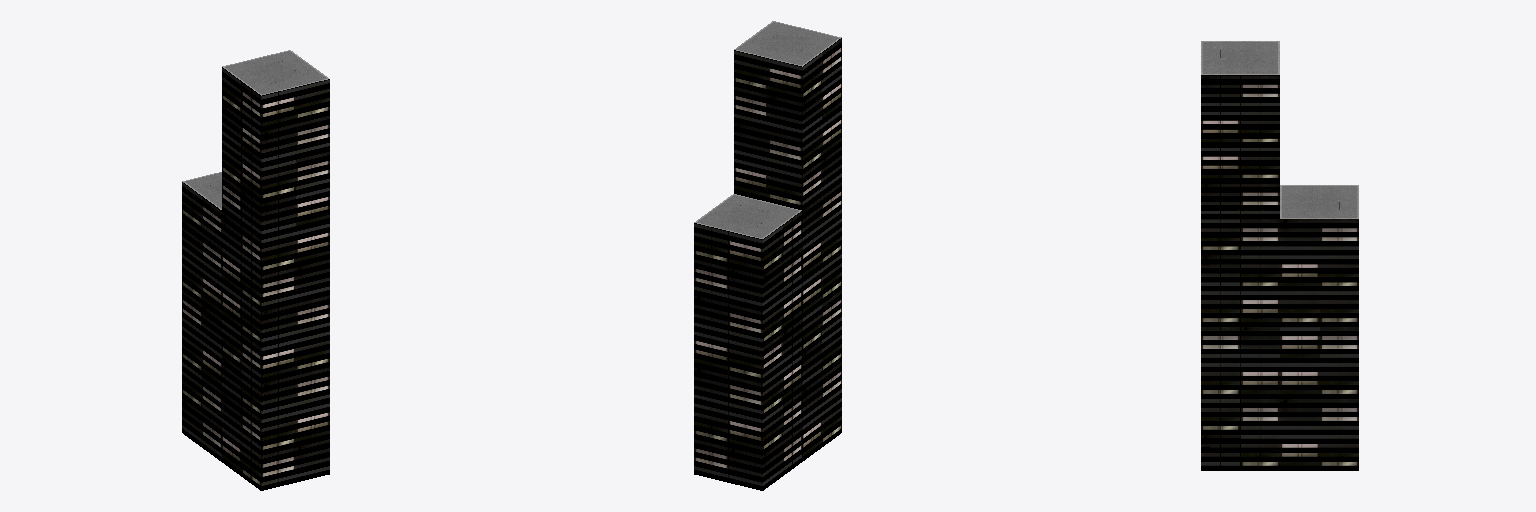
3 renders of one model, left to right at view 1: azimuth 30°, elevation 25°; view 2: azimuth 150°, elevation 25°; view 3: azimuth 270°, elevation 25°, orthographic.
Visible parts, largest first — view 1: Building_square2tier; view 2: Building_square2tier; view 3: Building_square2tier.
Part boxes in pixels (bbox=[...]): Building_square2tier: bbox=[182, 50, 329, 490]; Building_square2tier: bbox=[694, 21, 841, 490]; Building_square2tier: bbox=[1201, 41, 1358, 470].
Size of the model in its own units: 29.07 by 160 by 58.13.
1 materials, 1 textured.